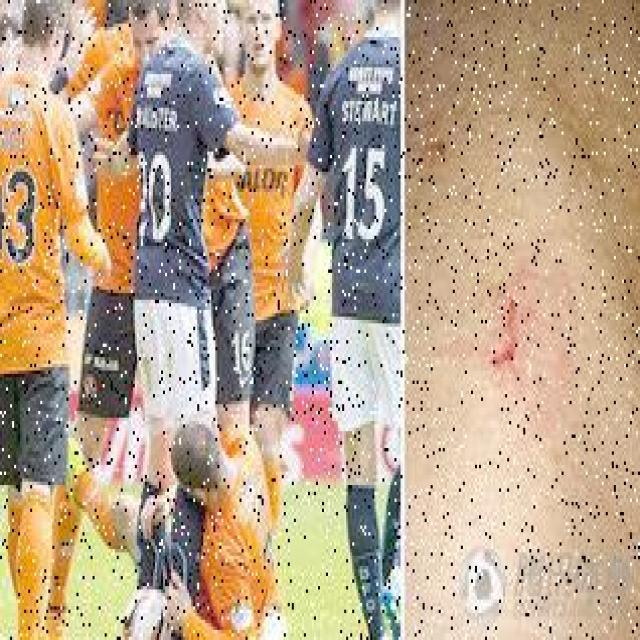fall: (76, 428, 282, 636)
